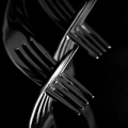Fork: (3, 2, 126, 109)
